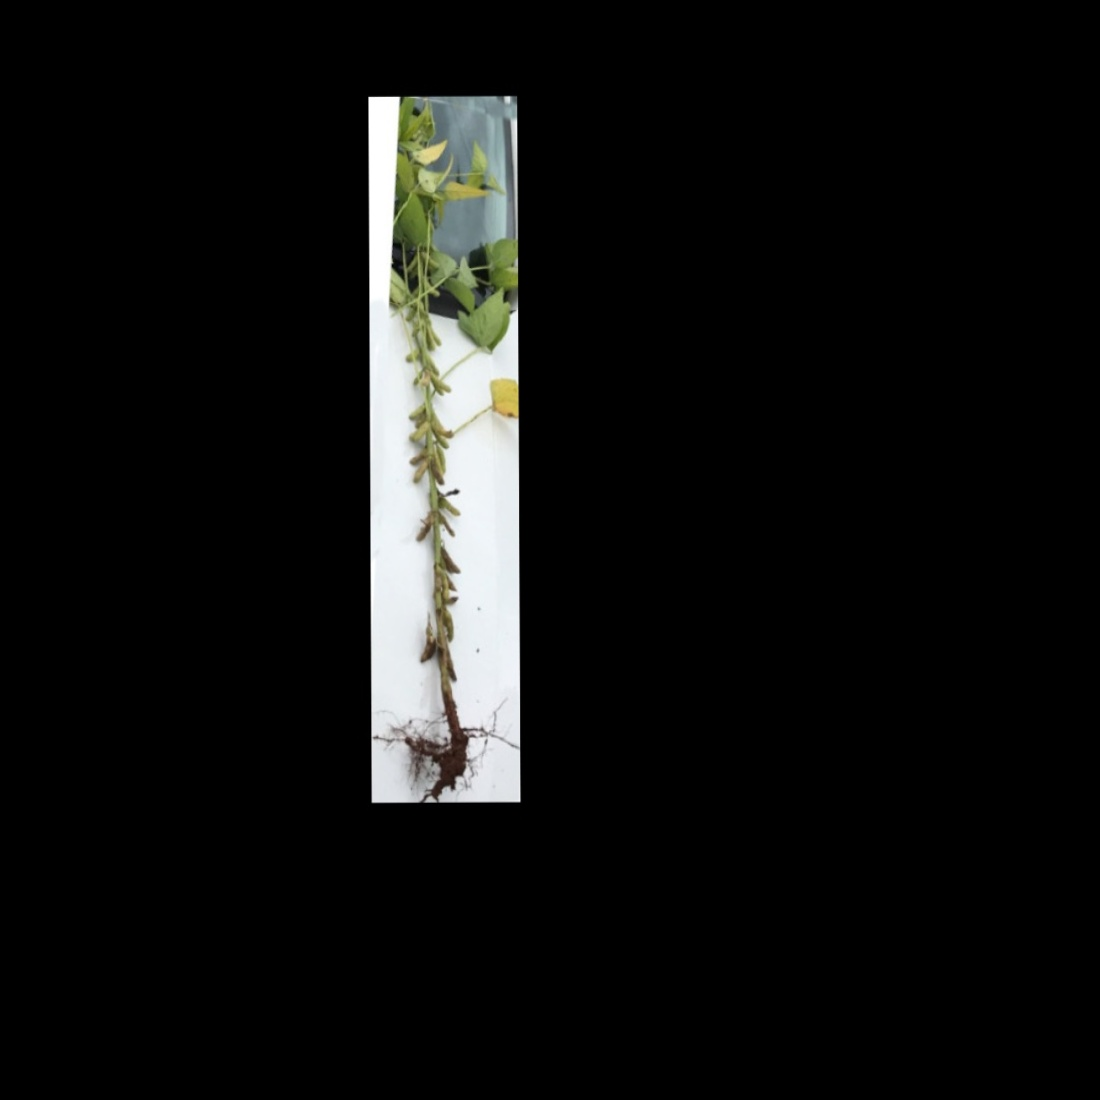pod: (407, 458, 430, 487), (427, 371, 453, 395), (429, 423, 450, 451), (407, 400, 429, 422), (409, 421, 430, 443), (423, 274, 442, 298), (402, 345, 423, 364)
soy: (378, 102, 513, 785)
